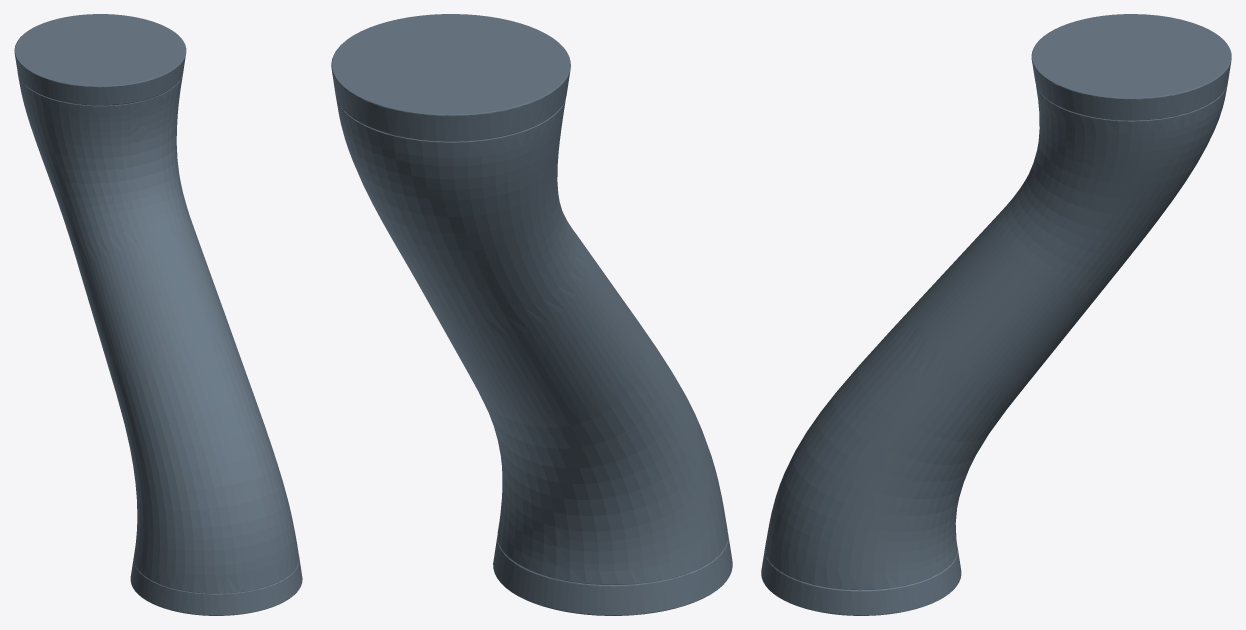
3 renders of one model, left to right at view 1: azimuth 30°, elevation 25°; view 2: azimuth 150°, elevation 25°; view 3: azimuth 270°, elevation 25°, orthographic. The views are drawn at different scales.
Visible parts, largest first — view 1: A0509_4_0; view 2: A0509_4_0; view 3: A0509_4_0.
Boxes of the visible parts, x1,y1,x2,y2 form: A0509_4_0: [14, 14, 302, 615]; A0509_4_0: [331, 14, 732, 615]; A0509_4_0: [761, 14, 1231, 615].
Bounding box in the file's own units: 90.39 × 212 × 258.
